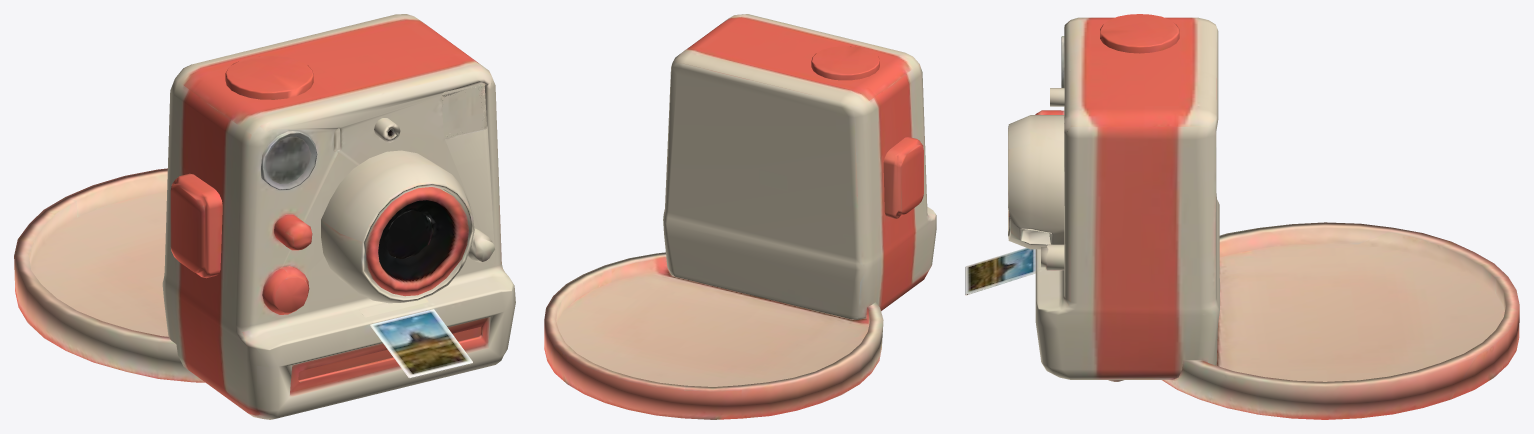
Rendered from story.glb.
3 renders of one model, left to right at view 1: azimuth 30°, elevation 25°; view 2: azimuth 150°, elevation 25°; view 3: azimuth 270°, elevation 25°, orthographic. The views are drawn at different scales.
Bounding box in the file's own units: 0.6704 × 0.5298 × 0.9526.
Materials: 1 (1 with a texture image).
